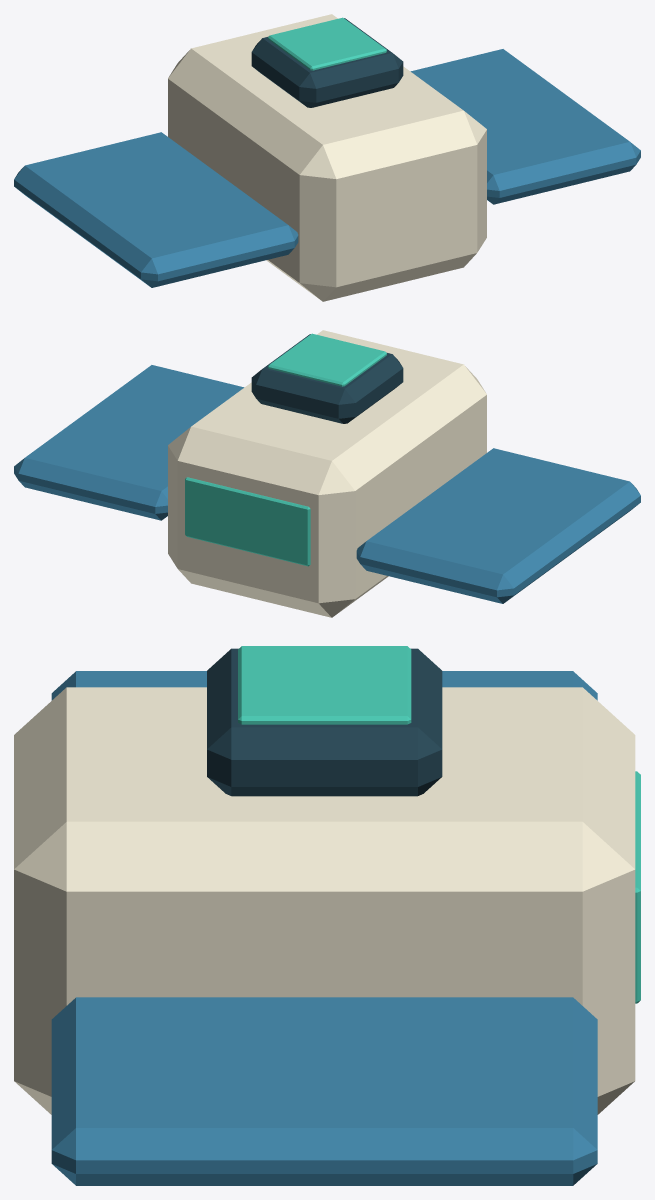
The model's file is auto_explore.glb.
The picture shows the model from 3 angles, top to bottom: view 1: azimuth 30°, elevation 25°; view 2: azimuth 150°, elevation 25°; view 3: azimuth 270°, elevation 25°; orthographic projection. The views are drawn at different scales.
Visible parts, largest first — view 1: StaticHull, AnimatedHardware; view 2: StaticHull, AnimatedHardware; view 3: StaticHull, AnimatedHardware.
Part boxes in pixels (x1,y1,x2,y2): StaticHull: (14, 14, 640, 301); AnimatedHardware: (251, 17, 403, 107); StaticHull: (14, 330, 640, 617); AnimatedHardware: (251, 333, 403, 423); StaticHull: (14, 671, 640, 1185); AnimatedHardware: (207, 646, 442, 796).
Bounding box in the file's own units: 6 × 2.23 × 3.33.
